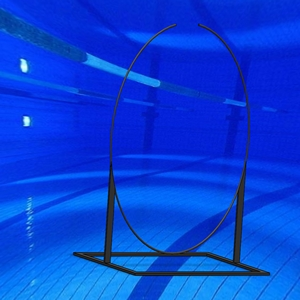circle: (72, 22, 272, 278)
